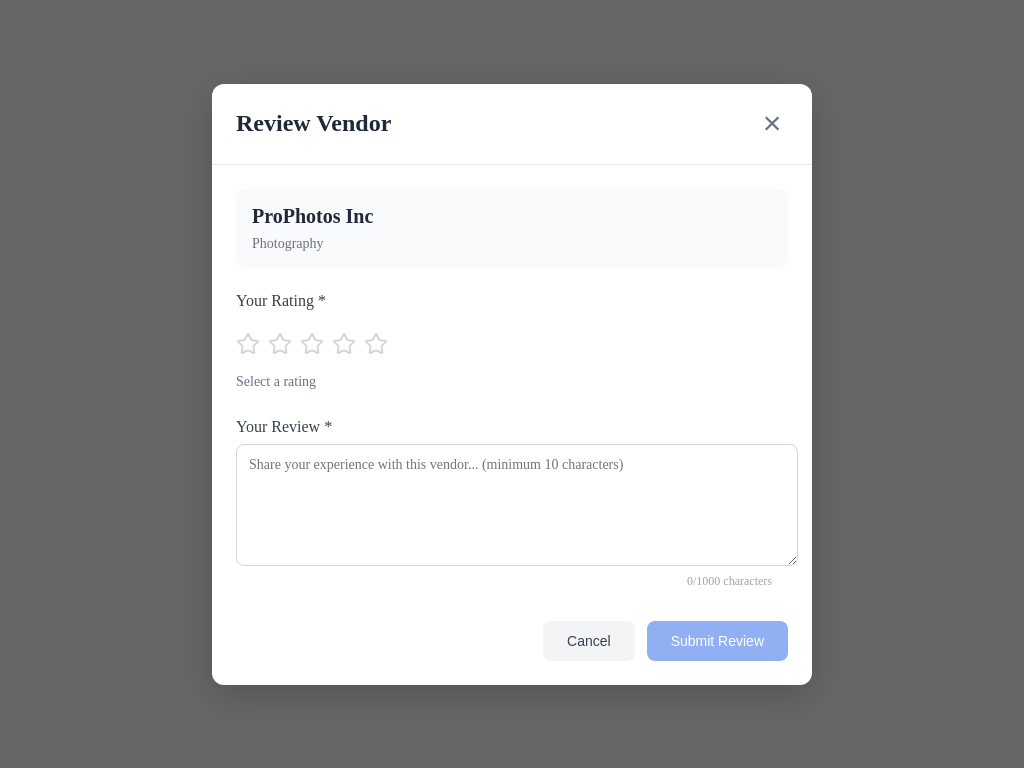
Scenario: PlannerReviewVendor › updates rating when star is clicked
Click the button named "Rate 3 stars".
click(312, 342)  # box [300,322,324,362]
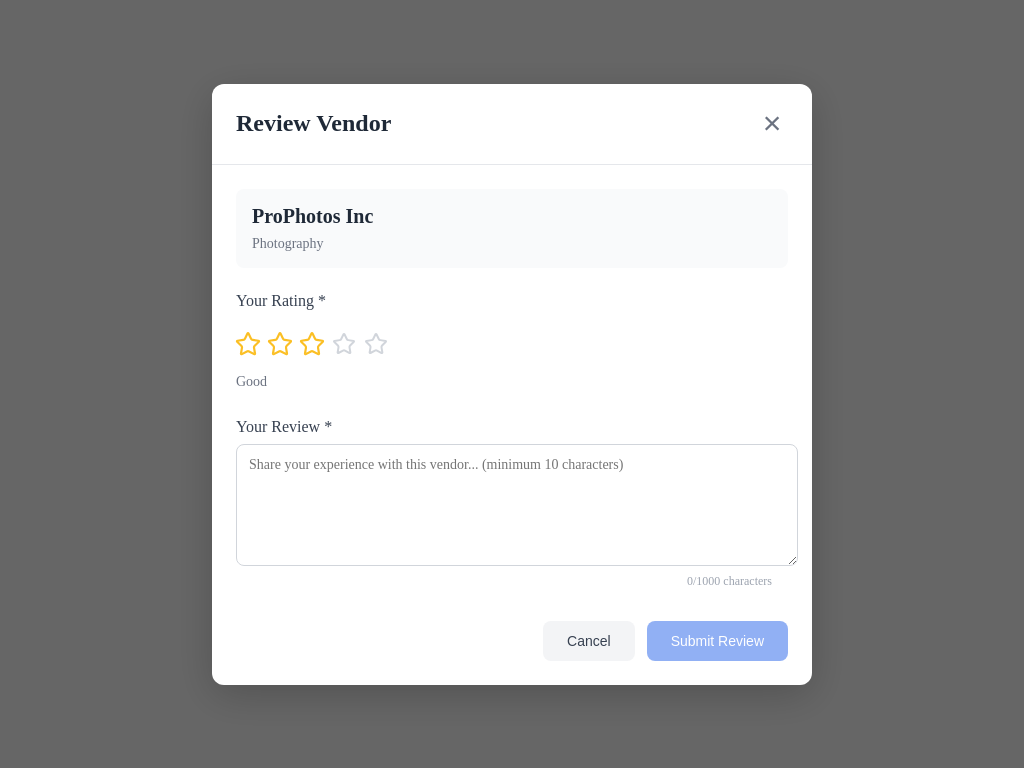
Expected: the text "Good" is shown, [236,374,267,388]
